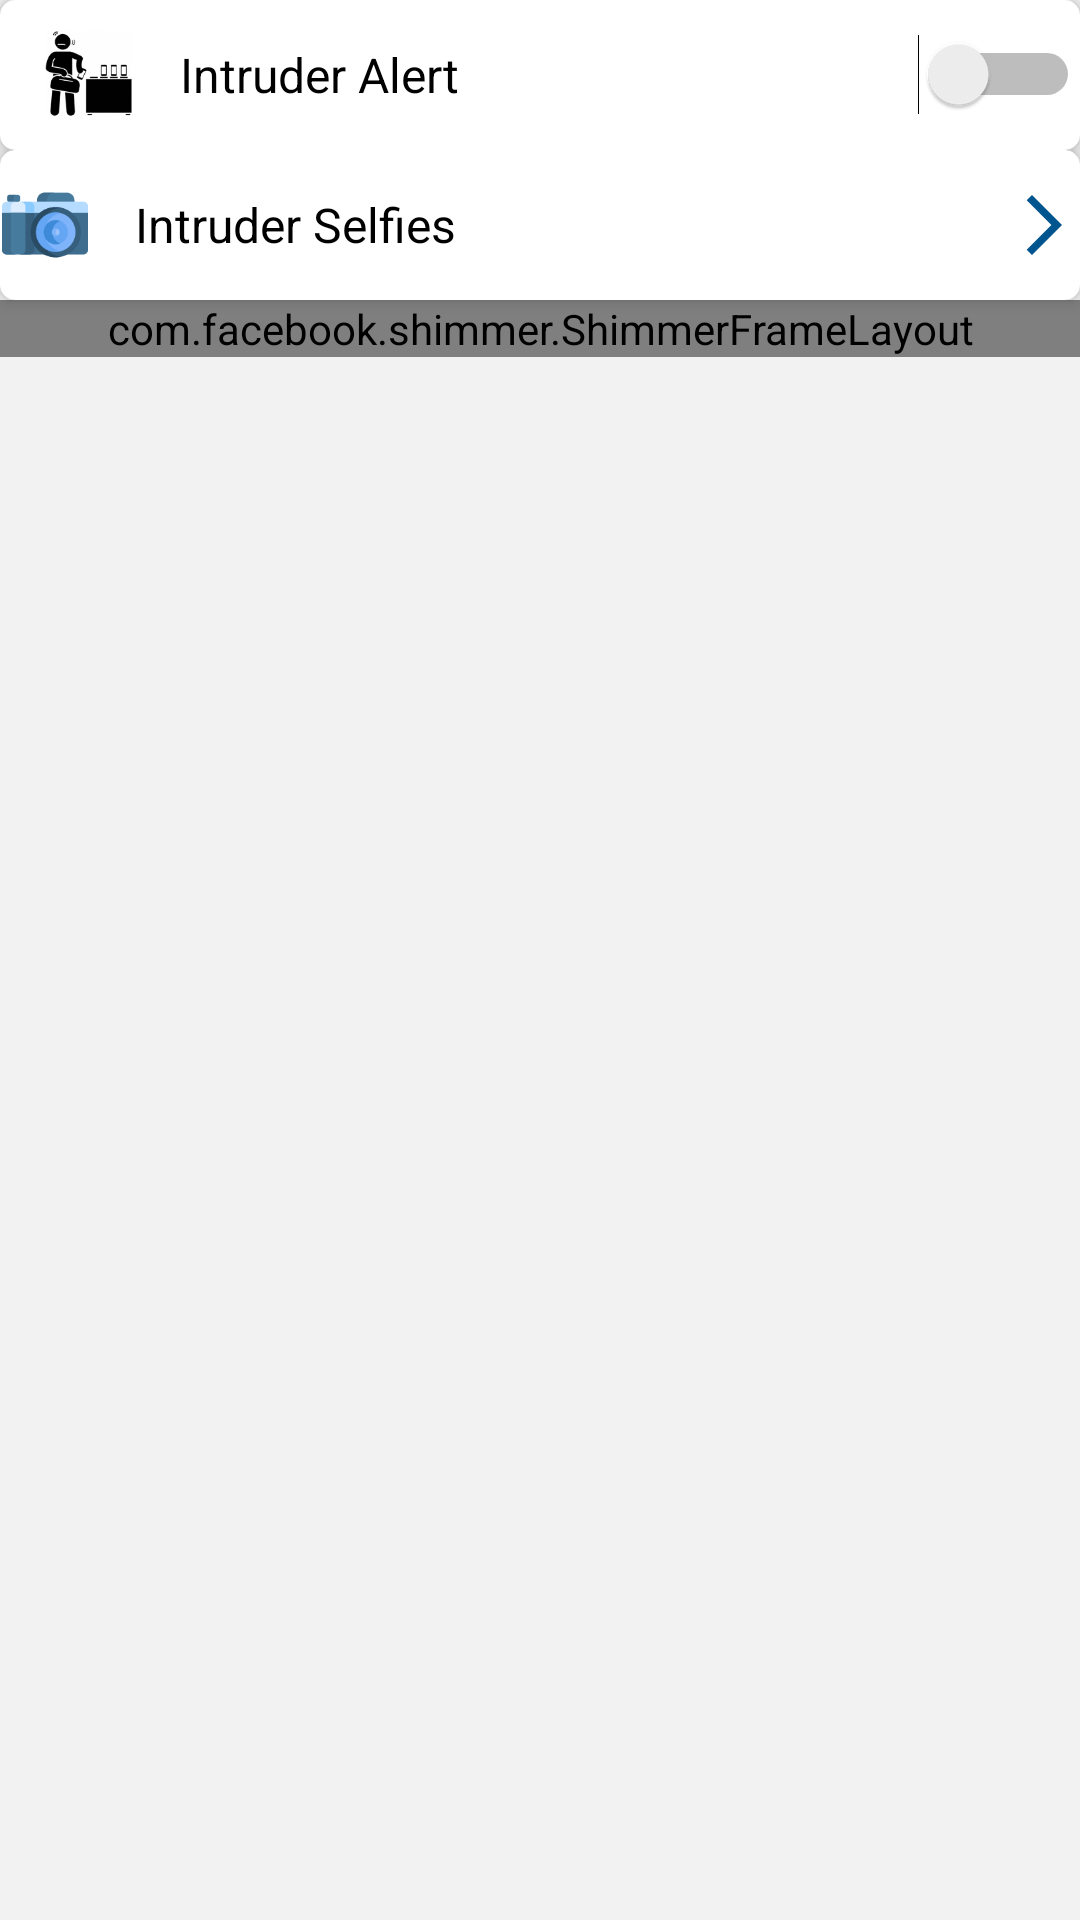

Screen size 1080×1920. Icon name, then its box in pixels as (x1, y1, x2, y2):
arrow forward: (1027, 195, 1062, 255)
camera: (2, 192, 88, 258)
